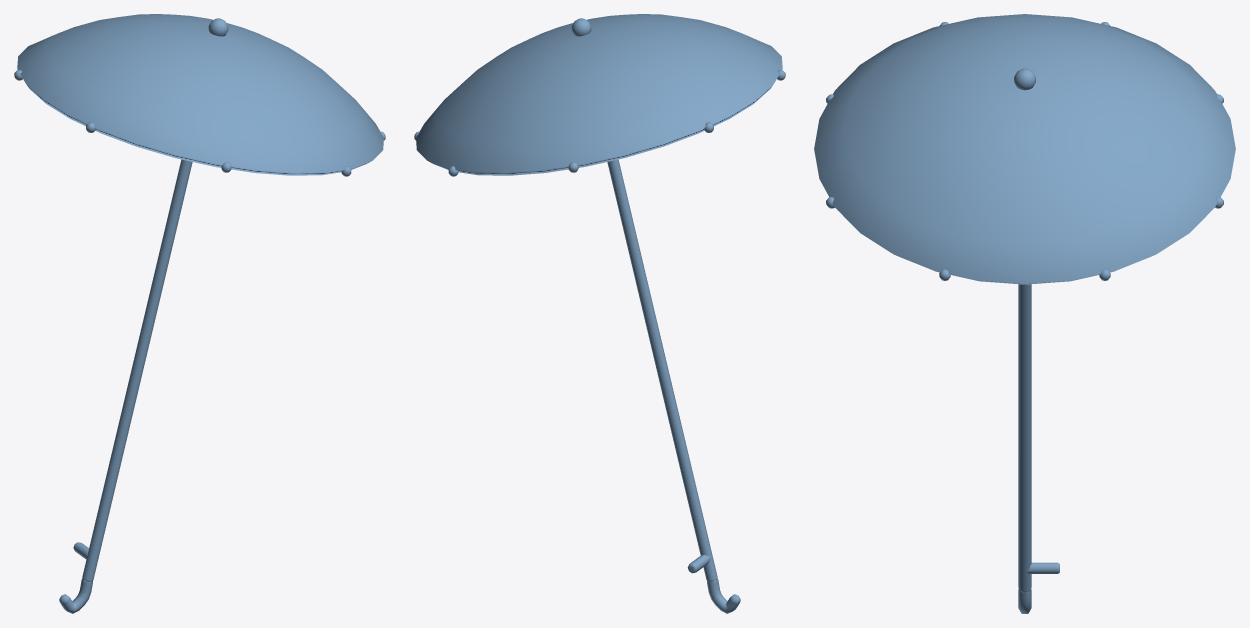
The model's file is blue_umbrella.glb.
The picture shows the model from 3 angles, left to right: view 1: azimuth 30°, elevation 25°; view 2: azimuth 150°, elevation 25°; view 3: azimuth 270°, elevation 25°; orthographic projection. The views are drawn at different scales.
Visible parts, largest first — view 1: blue_umbrella_ArmR; view 2: blue_umbrella_ArmR; view 3: blue_umbrella_ArmR.
Boxes of the visible parts, x1,y1,x2,y2 form: blue_umbrella_ArmR: [14, 14, 385, 613]; blue_umbrella_ArmR: [414, 14, 785, 613]; blue_umbrella_ArmR: [814, 14, 1235, 613].
Size of the model in its own units: 0.8703 by 1.47 by 0.9.
